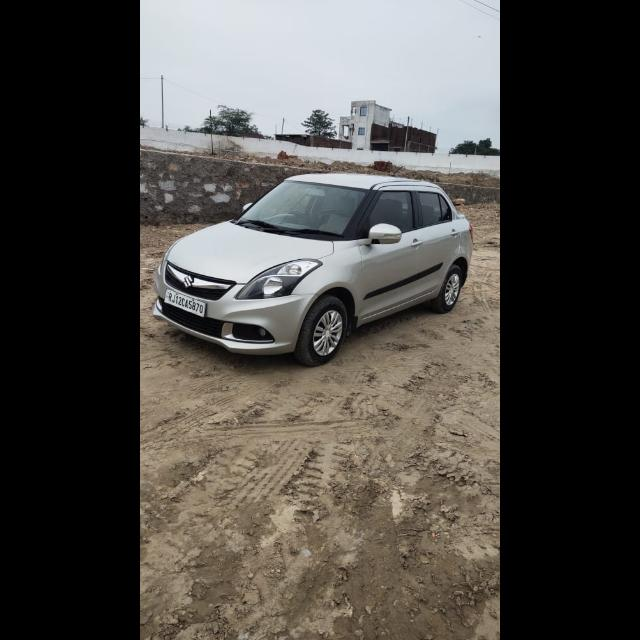number-plate: (164, 289, 205, 315)
vehicles: (153, 174, 471, 363)
